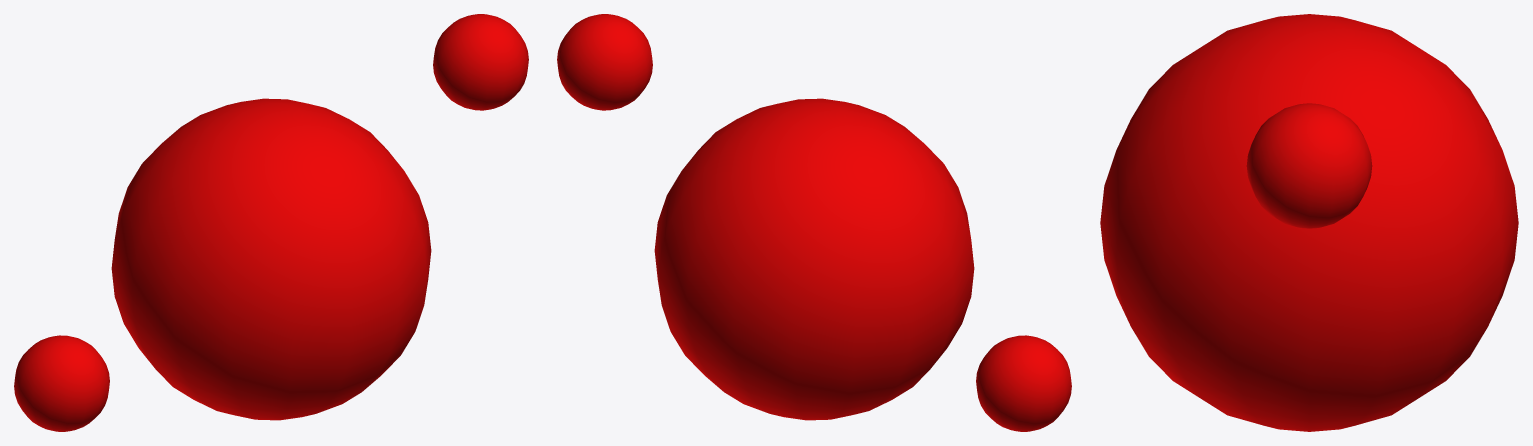
File: actor.fbx
3 renders of one model, left to right at view 1: azimuth 30°, elevation 25°; view 2: azimuth 150°, elevation 25°; view 3: azimuth 270°, elevation 25°, orthographic. The views are drawn at different scales.
Visible parts, largest first — view 1: Sphere, Sphere.001, Sphere.002; view 2: Sphere, Sphere.001, Sphere.002; view 3: Sphere, Sphere.001.
Boxes of the visible parts, x1,y1,x2,y2 form: Sphere: (111,98,431,420); Sphere.001: (433,14,528,110); Sphere.002: (14,335,109,431); Sphere: (654,98,974,420); Sphere.001: (557,14,652,110); Sphere.002: (976,335,1071,431); Sphere: (1100,14,1518,431); Sphere.001: (1246,103,1372,228).
Bounding box in the file's own units: 3.6 × 2.3 × 2.
